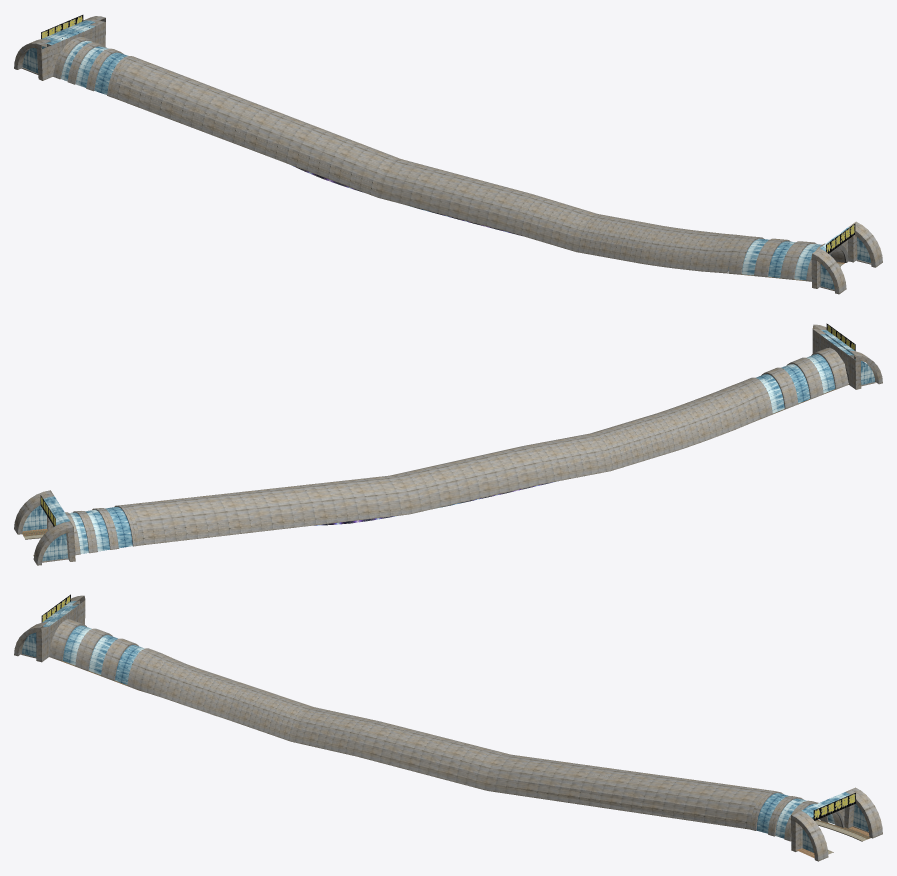
The model's file is sh_ Tunnel.FBX.
The picture shows the model from 3 angles, top to bottom: view 1: azimuth 90°, elevation 25°; view 2: azimuth 150°, elevation 25°; view 3: azimuth 270°, elevation 25°; orthographic projection.
Visible parts, largest first — view 1: sh_tun, sh_glass_01, tin_shop; view 2: sh_tun, sh_glass_01; view 3: sh_tun, sh_glass_01, tin_shop, sh_tunnel_repeat.
Part boxes in pixels (x1,y1,x2,y2): sh_tun: (14,16,882,294); sh_glass_01: (22,20,870,289); tin_shop: (41,15,855,253); sh_tun: (14,324,882,565); sh_glass_01: (22,329,874,561); sh_tun: (14,595,882,861); sh_glass_01: (22,601,868,852); tin_shop: (41,594,855,820); sh_tunnel_repeat: (49,657,870,858).
Size of the model in its own units: 240 by 34.15 by 359.
